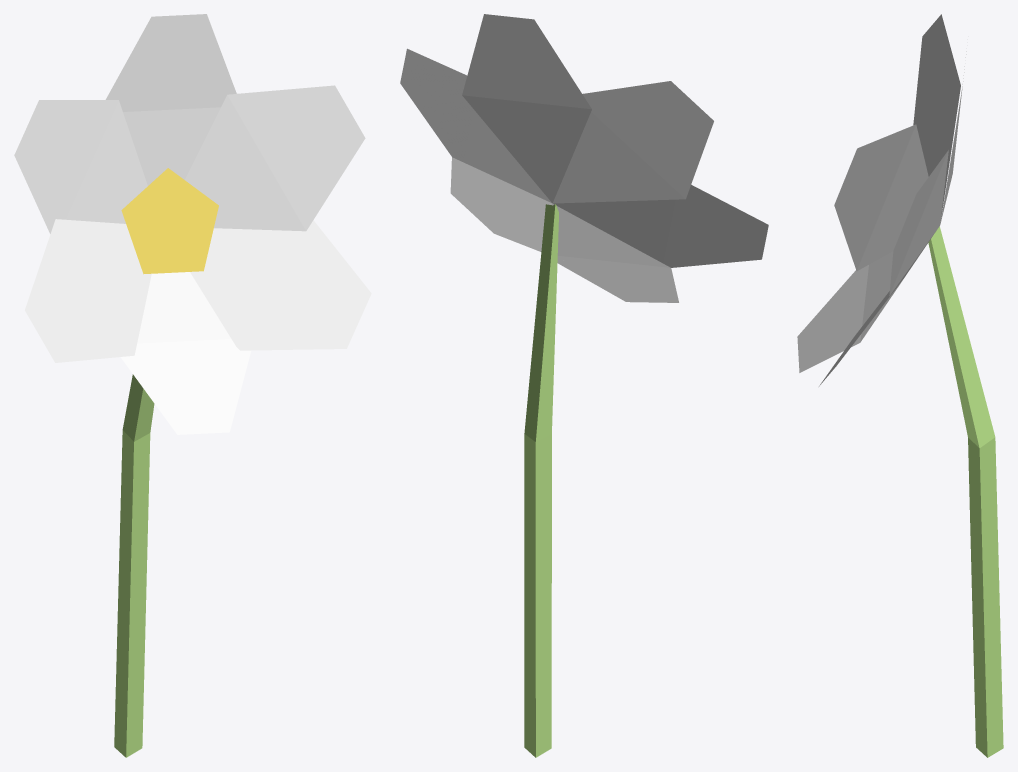
The model's file is Flower_e_OneS_03.fbx.
3 renders of one model, left to right at view 1: azimuth 30°, elevation 25°; view 2: azimuth 150°, elevation 25°; view 3: azimuth 270°, elevation 25°, orthographic. The views are drawn at different scales.
Parts seen in each view (by area): view 1: Flower_e_OneS_03; view 2: Flower_e_OneS_03; view 3: Flower_e_OneS_03.
Boxes of the visible parts, left/top/right/bottom form: Flower_e_OneS_03: left=14, top=14, right=371, bottom=757; Flower_e_OneS_03: left=400, top=14, right=768, bottom=757; Flower_e_OneS_03: left=797, top=14, right=1003, bottom=757.
Bounding box in the file's own units: 0.2032 × 0.3993 × 0.1029.
